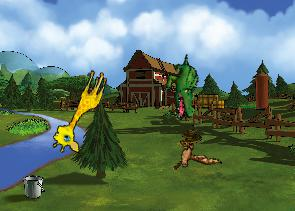crocodile: (156, 53, 211, 122)
eagle: (165, 131, 222, 183)
giraffe: (48, 63, 110, 158)
